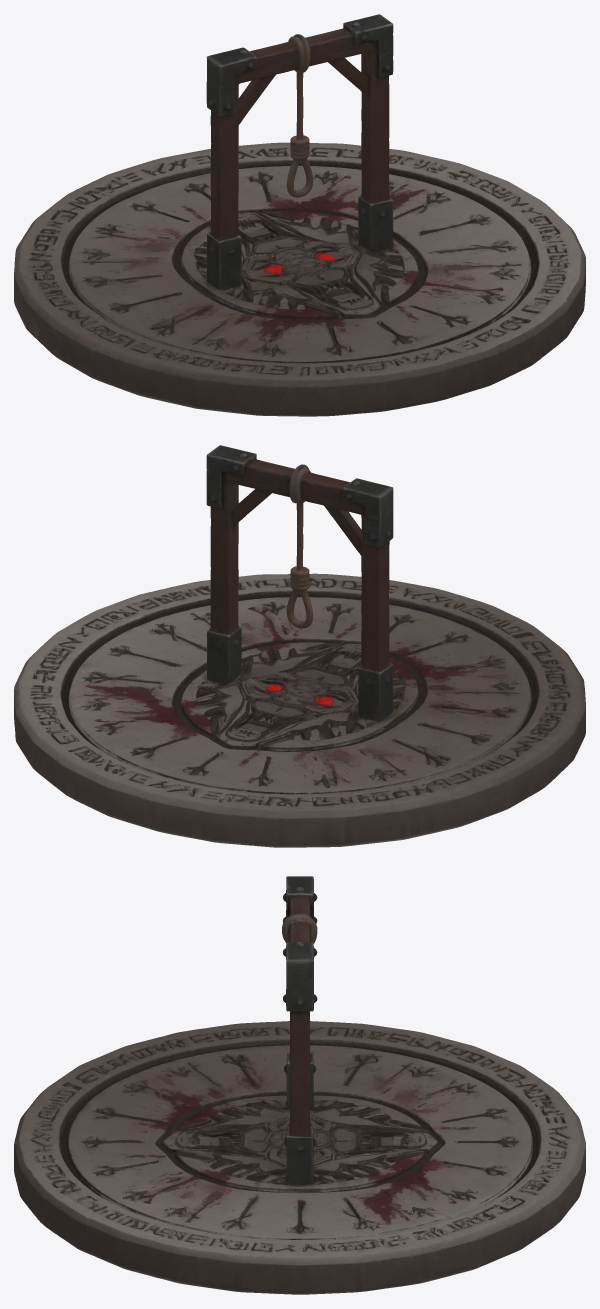
File: blood_circle.glb
3 views of the same model, one above another, from view 1: azimuth 30°, elevation 25°; view 2: azimuth 150°, elevation 25°; view 3: azimuth 270°, elevation 25° (orthographic).
Bounding box in the file's own units: 1.9 × 0.9613 × 1.9.
1 material, 1 textured.
